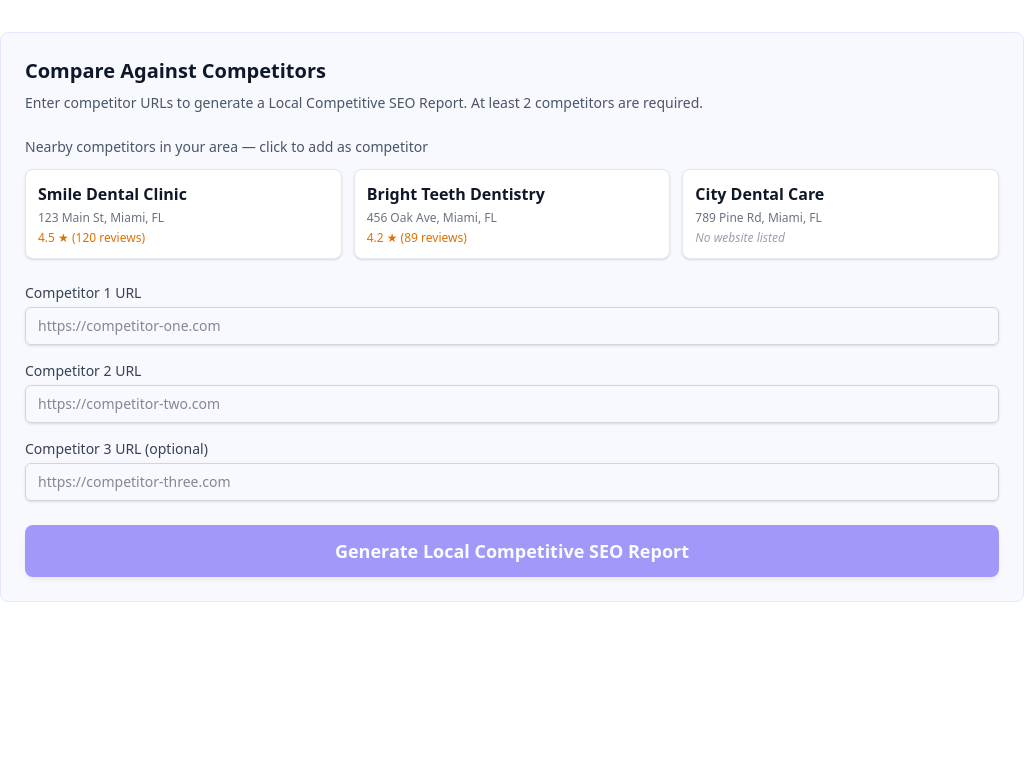
Click Suggestion to Fill URL (CHG-012) › fills the next empty field when first is already filled
The image size is (1024, 768).
Click first suggestion
Click the button "Smile Dental Clinic" at (112, 194), box [25,169,342,259]
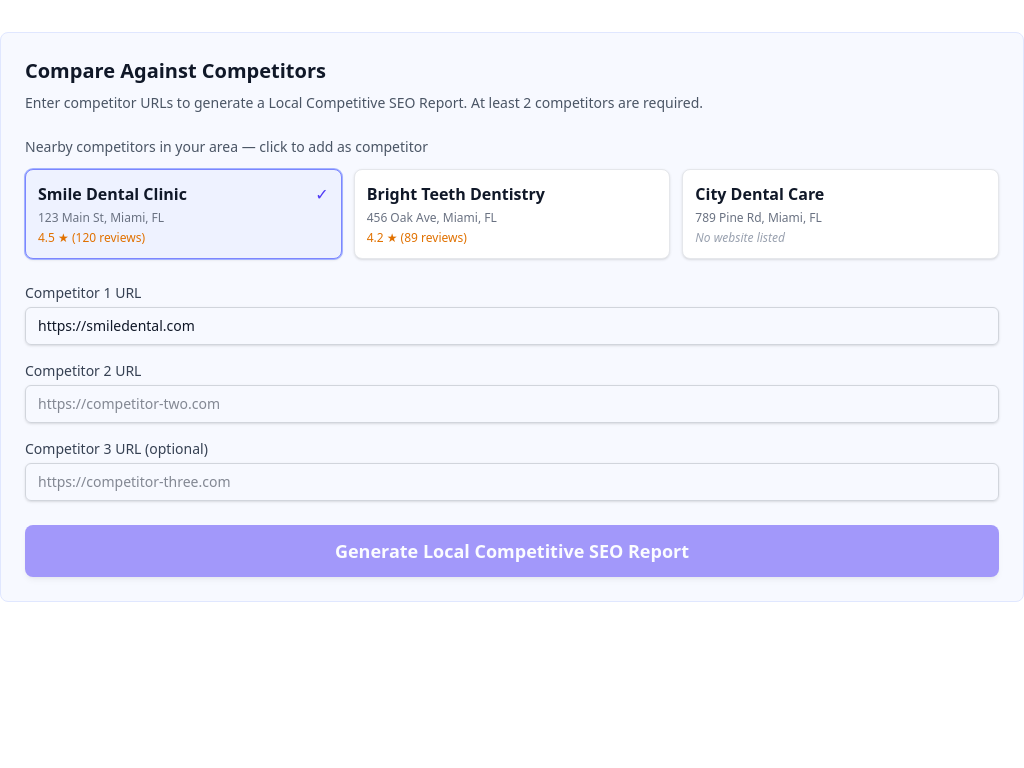
Click second suggestion
Click the button "Bright Teeth Dentistry" at (456, 194), box [354,169,670,259]
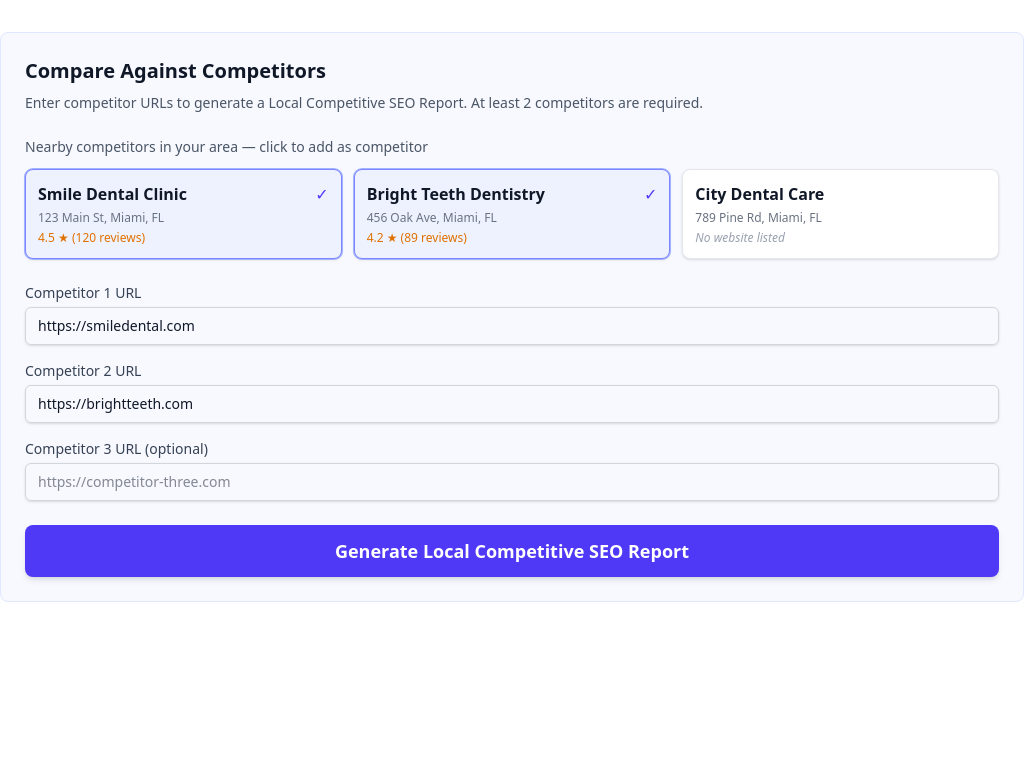
Expected: the field labelled "Competitor 2 URL" holds "https://brightteeth.com", [25,385,999,423]
